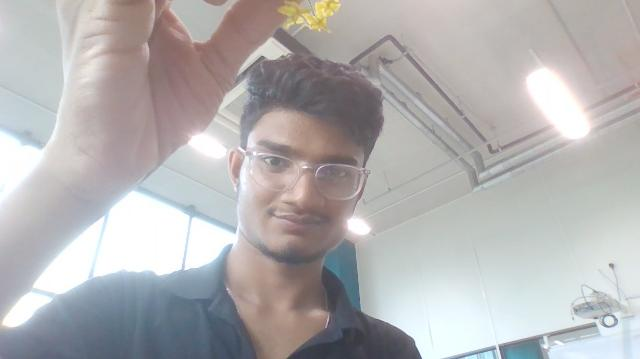Anthesis: (308, 0, 341, 29), (277, 0, 309, 29), (300, 13, 318, 29), (284, 15, 301, 30)
